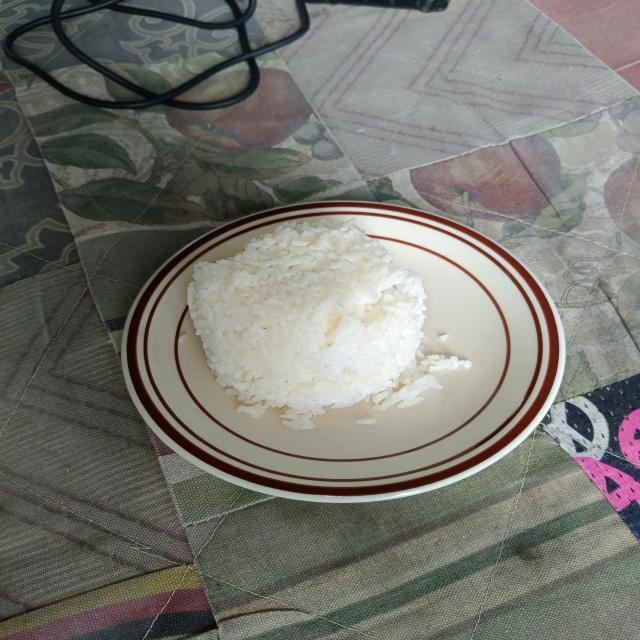Chicken -Chicken Inasal-: (198, 212, 429, 414)
